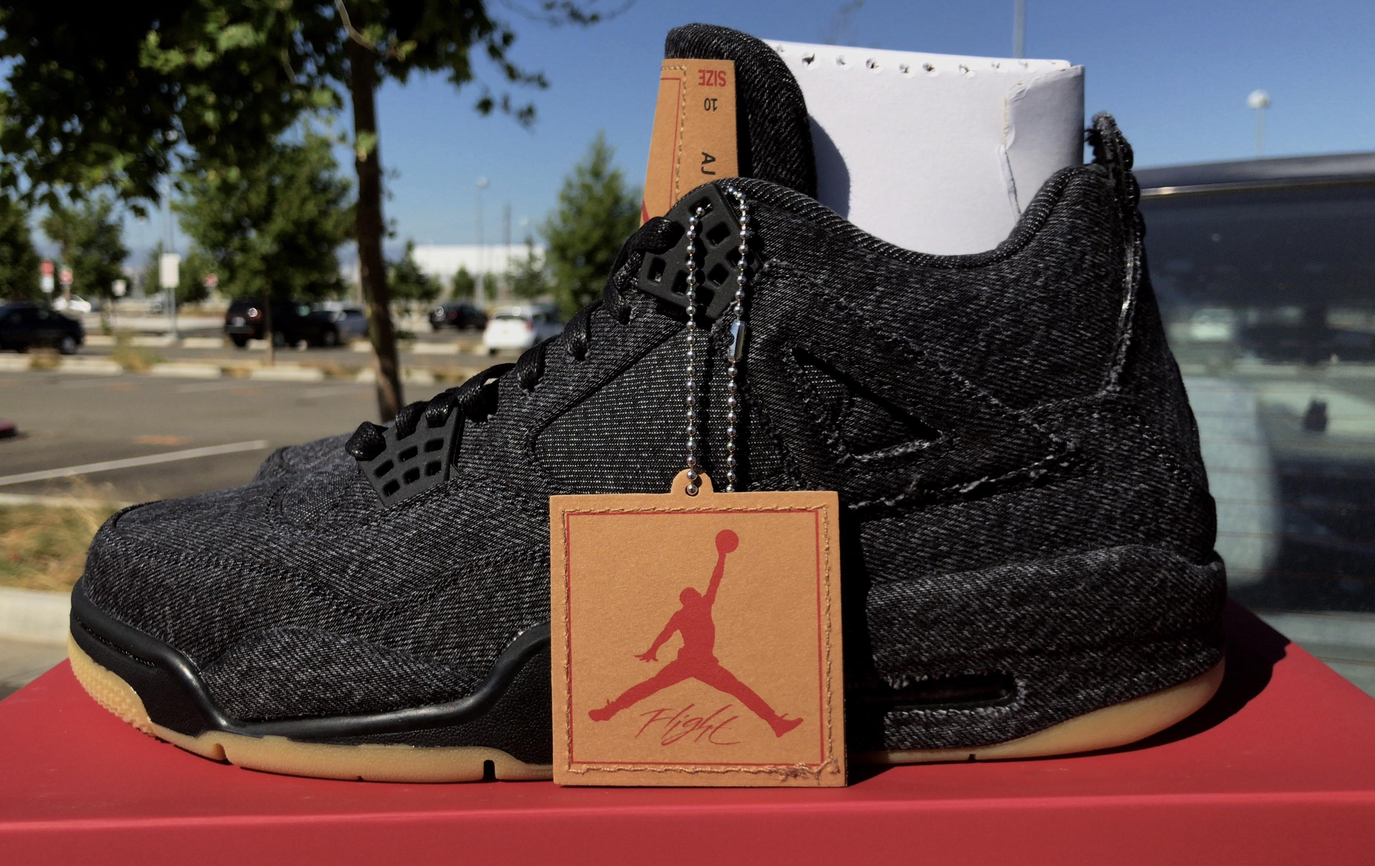sneaker: (62, 20, 1232, 789)
